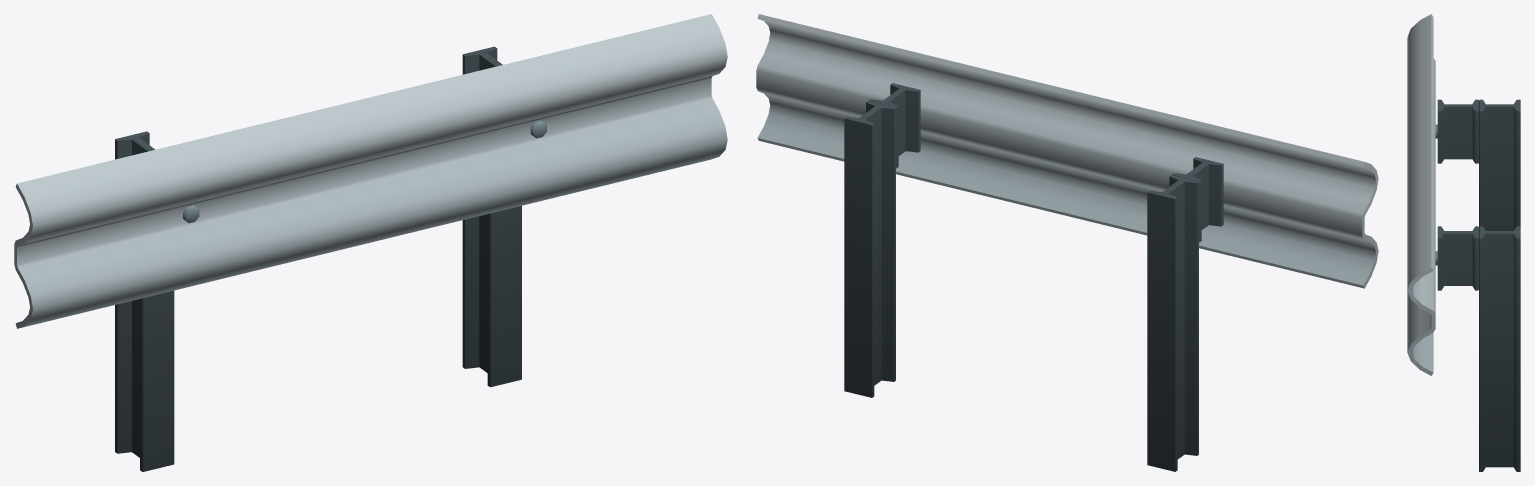
The model's file is Road_Barrier_01.fbx.
The picture shows the model from 3 angles, left to right: view 1: azimuth 30°, elevation 25°; view 2: azimuth 150°, elevation 25°; view 3: azimuth 270°, elevation 25°; orthographic projection. The views are drawn at different scales.
Visible parts, largest first — view 1: Road_Barrier_01; view 2: Road_Barrier_01; view 3: Road_Barrier_01.
Boxes of the visible parts, bbox=[...] form: Road_Barrier_01: bbox=[14, 14, 727, 471]; Road_Barrier_01: bbox=[756, 14, 1378, 471]; Road_Barrier_01: bbox=[1407, 14, 1520, 471].
Bounding box in the file's own units: 250 × 47.12 × 121.
